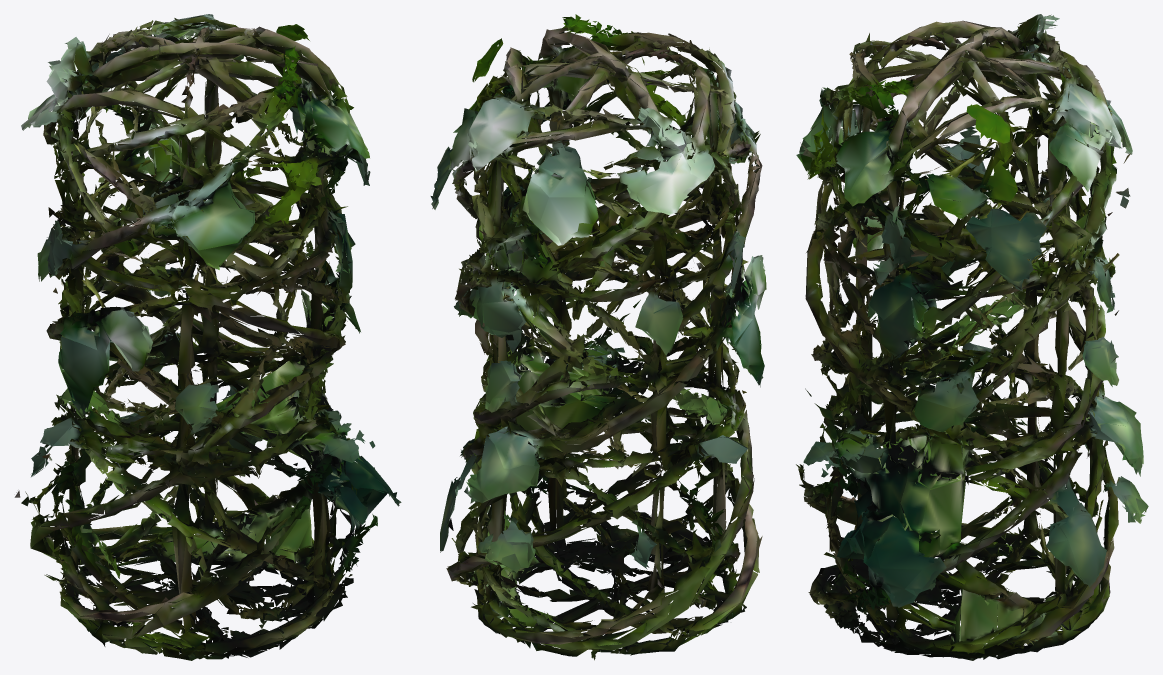
Rendered from vine_tangle.glb.
3 renders of one model, left to right at view 1: azimuth 30°, elevation 25°; view 2: azimuth 150°, elevation 25°; view 3: azimuth 270°, elevation 25°, orthographic.
Parts seen in each view (by area): view 1: vine_tangle_body; view 2: vine_tangle_body; view 3: vine_tangle_body.
Boxes of the visible parts, x1,y1,x2,y2 form: vine_tangle_body: (14, 14, 401, 660); vine_tangle_body: (430, 14, 766, 660); vine_tangle_body: (796, 14, 1148, 660).
Size of the model in its own units: 1.43 by 2.41 by 1.36.
Materials: 1 (1 with a texture image).
